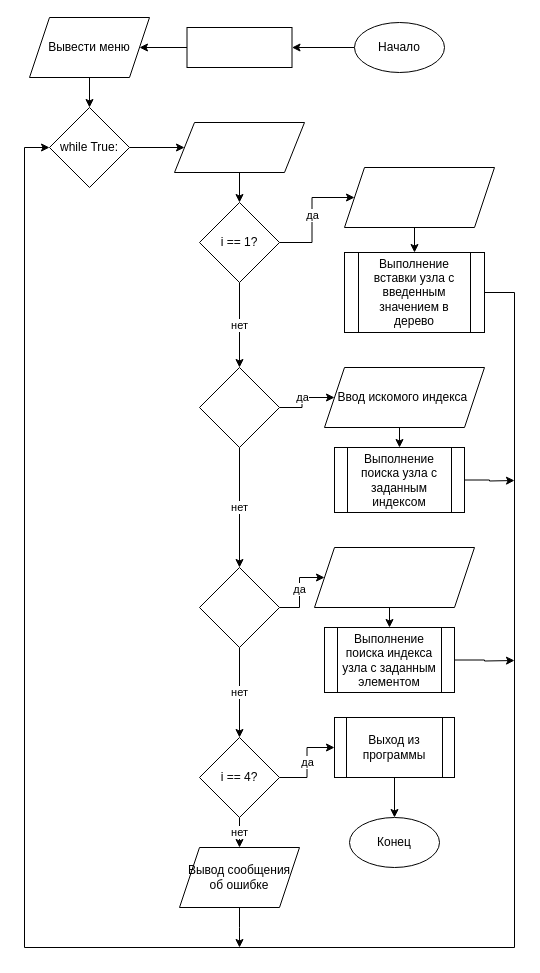
Image size: 540x973. Some labels were removed from this diagram. Each missing label, with the centre of its shape:
i == 2?: (x=239, y=407)
i == 3?: (x=239, y=607)
Ввод i: (x=239, y=147)
Ввод значения искомого узла: (x=394, y=577)
Ввод значения узла: (x=419, y=197)
Создать дерево: (x=239, y=47)
